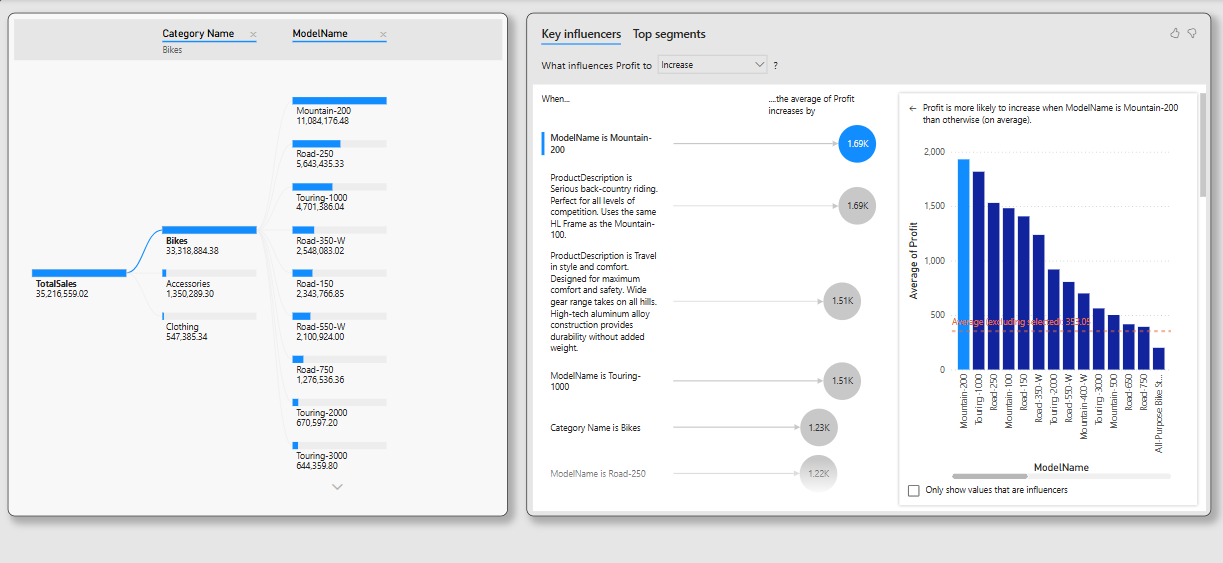

What the dashboard file says about the page in this screenshot:
{"tool":"powerbi","page":{"name":"AI Visuals","canvas":[1700,1000],"ordinal":1},"visuals":[{"type":"decompositionTreeVisual","fields":{"Analyze":["All Measures.TotalSales"],"ExplainBy":["Products.Category Name","Products.ModelName"]},"box":[25.5,18.2,678,674.3],"z":0},{"type":"keyDriversVisual","fields":{"Target":["All Measures.Profit"],"ExplainBy":["Products.Category Name","Products.ModelName","Products.ProductColor","Products.ProductDescription","Total Sales.CustomerKey"]},"box":[729,18.2,851.1,674.3],"z":1000}]}

Visuals, with their boxes on the page's 1700x1000 design canvas (x1, y1, x2, y2). These are canvas units, not pixel positions in the 1223x563 screenshot, which may show the page scaled, cropped or inside an application window:
decompositionTreeVisual - All Measures.TotalSales x Products.Category Name: 26, 18, 704, 692
keyDriversVisual - All Measures.Profit x Products.Category Name: 729, 18, 1580, 692
